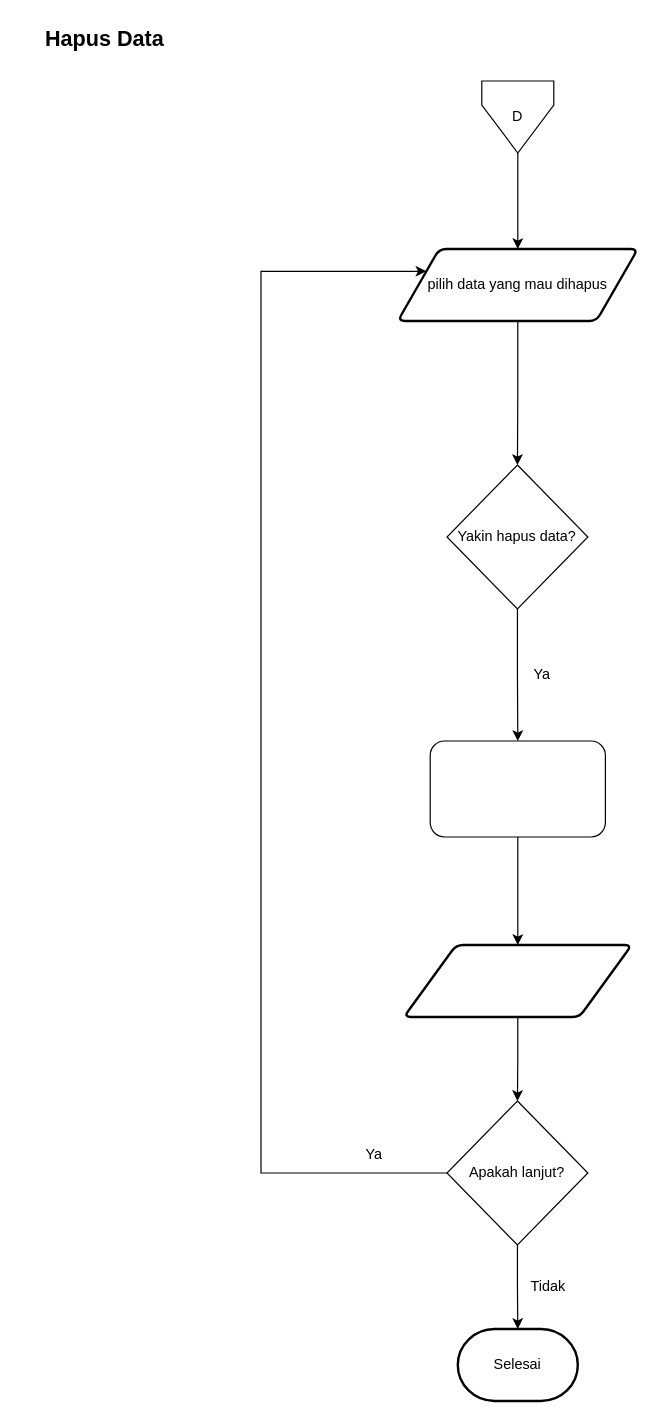
Some shapes in this 659 by 1422 pixel diagram are drawn without their labels. The shapes that lost their labels are listed below. From the top down, each one's box as (x1, y1, x2, y2) in pixels, then its label:
(429, 740, 605, 837): Proses hapus data
(402, 943, 632, 1018): Data berhasil dihapus
